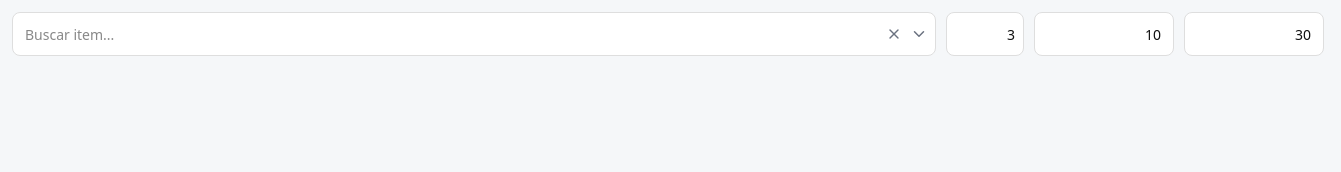
Test case: OperacionLineaEditor › Al actualizar el precio unitario, se actualiza el total manteniendo la cantidad
The image size is (1341, 172).
Step 1. Replace the text in the number field with test id "operaciones-line-0-unitario" with "5" → (1104, 34), box [1034, 12, 1174, 56]
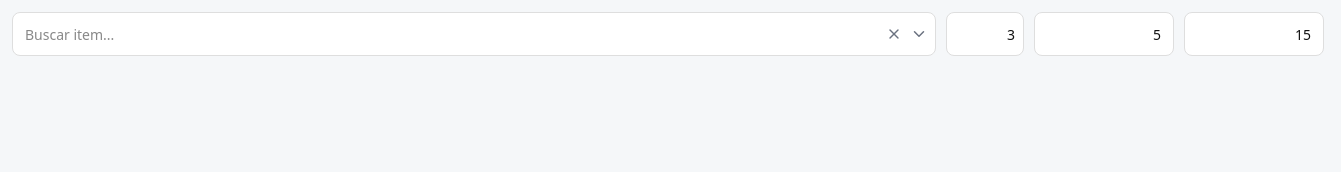
Check: the number field with test id "operaciones-line-0-total" holds "15", box [1184, 12, 1324, 56]
